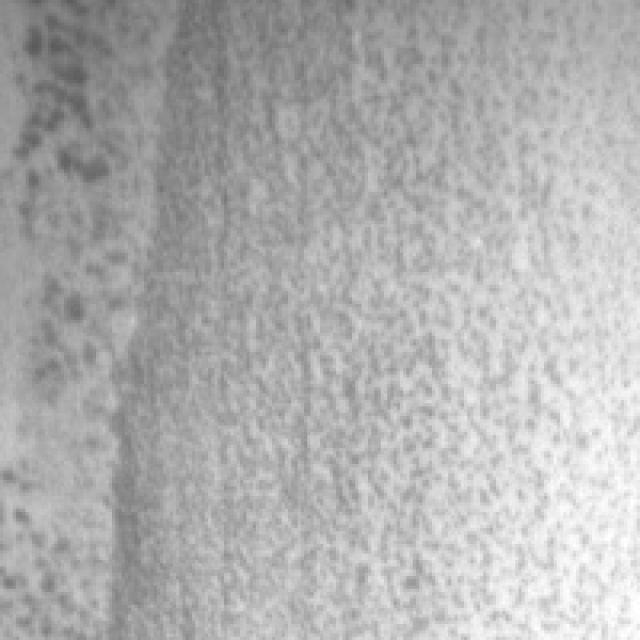pitted_surface: (118, 0, 636, 630), (0, 0, 150, 630)
